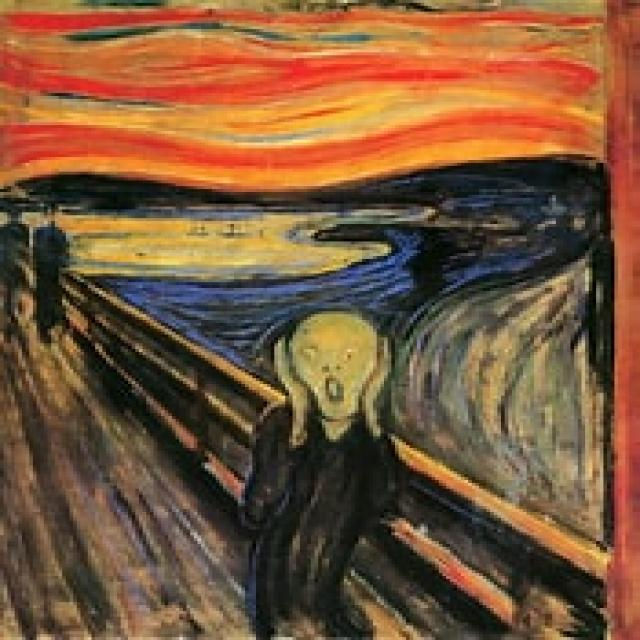skrik: (0, 4, 632, 635)
